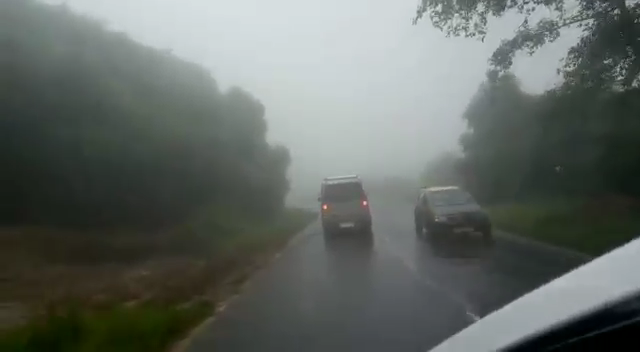car: (414, 186, 492, 240), (320, 180, 372, 232), (317, 174, 365, 212)
